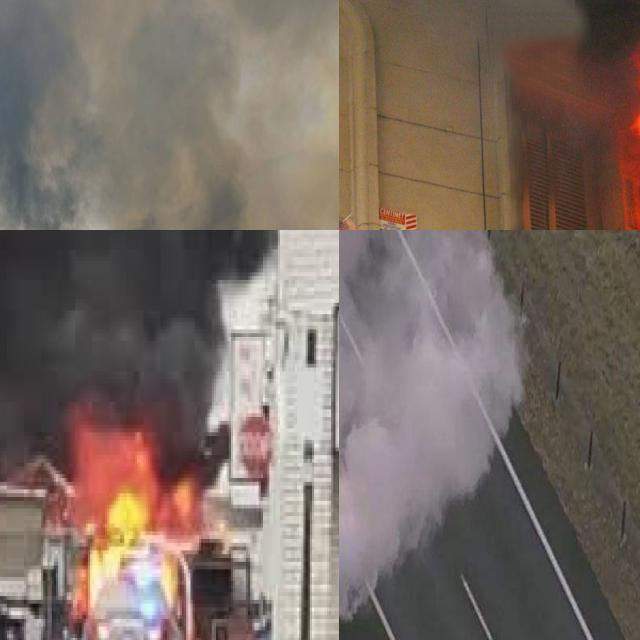fire: (41, 401, 203, 640)
smoke: (0, 0, 339, 230), (339, 230, 527, 627), (0, 230, 269, 474)
